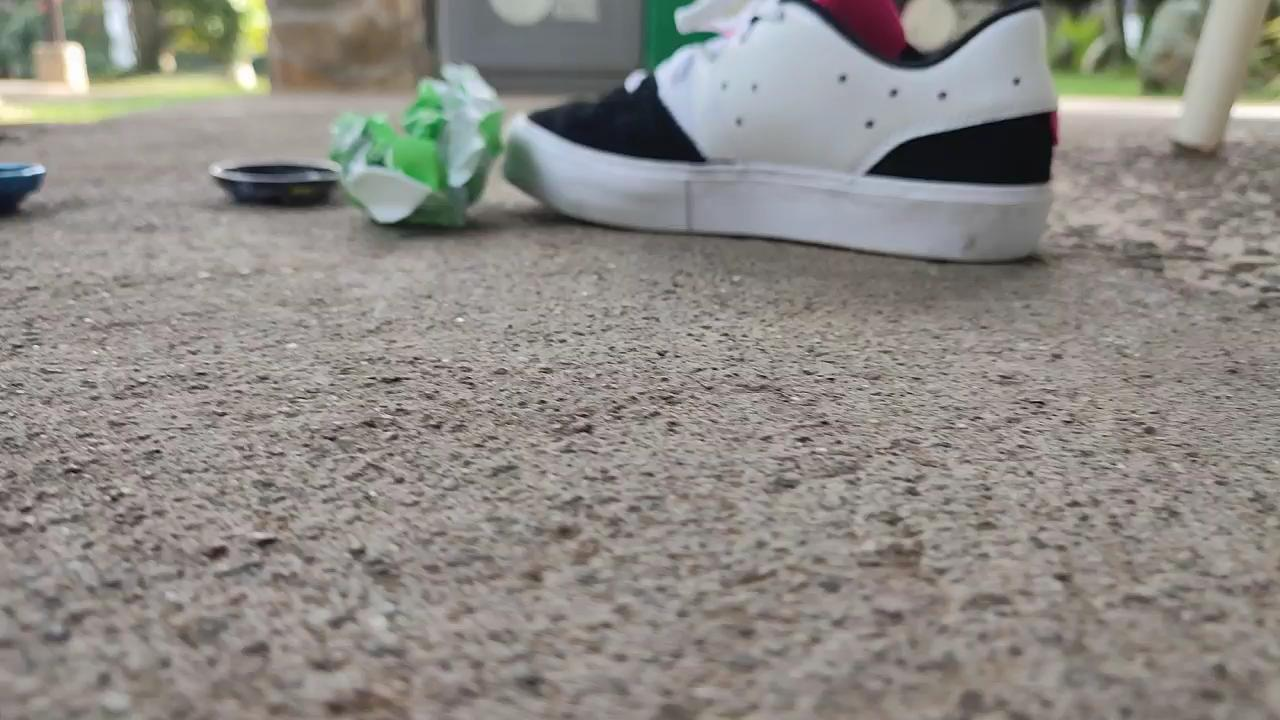Paper: (317, 25, 512, 238)
